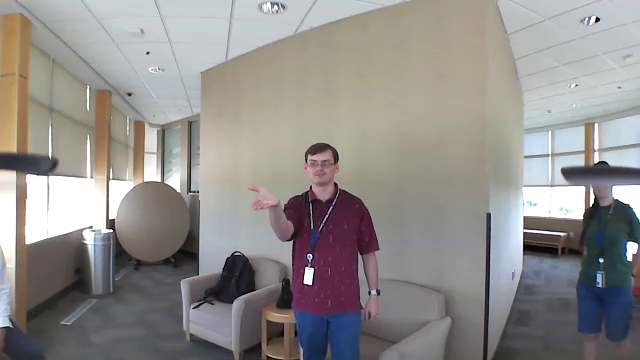land: (238, 180, 286, 215)
